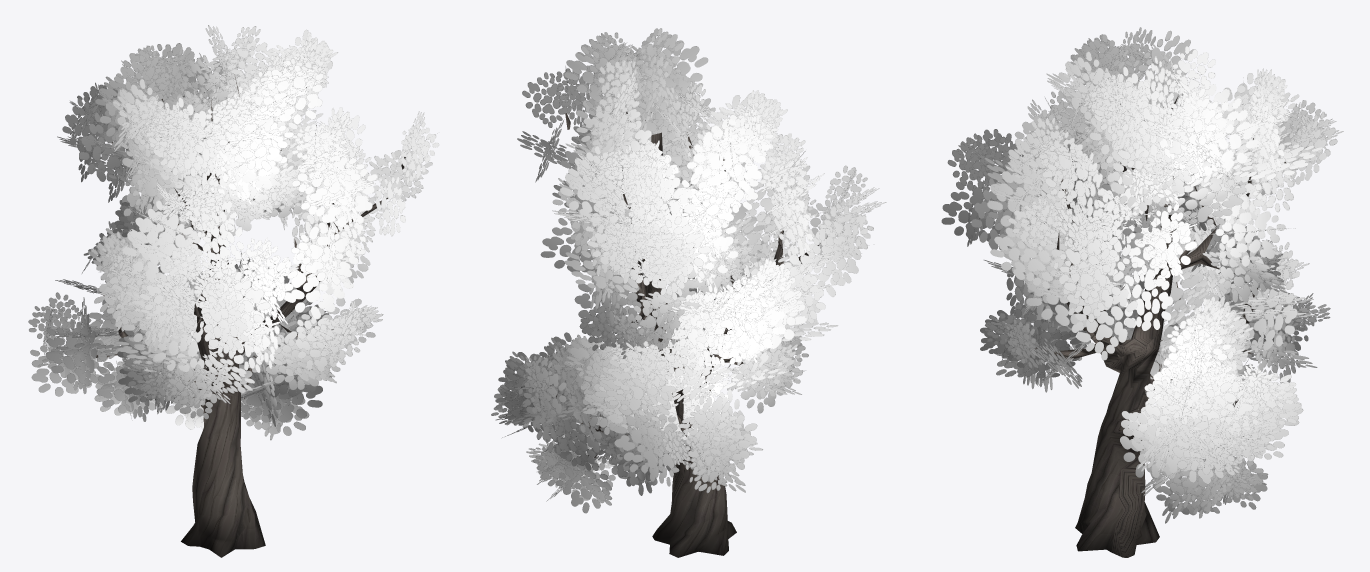
The model's file is TwistedTree_3.gltf.
The picture shows the model from 3 angles, left to right: view 1: azimuth 30°, elevation 25°; view 2: azimuth 150°, elevation 25°; view 3: azimuth 270°, elevation 25°; orthographic projection. The views are drawn at different scales.
Visible parts, largest first — view 1: TwistedTree_3; view 2: TwistedTree_3; view 3: TwistedTree_3.
Boxes of the visible parts, box(x1,y1,x2,y2) form: TwistedTree_3: box(28, 25, 439, 557); TwistedTree_3: box(491, 28, 886, 557); TwistedTree_3: box(941, 27, 1343, 557).
Size of the model in its own units: 12.03 by 16.55 by 12.28.
Materials: 2 (2 with a texture image).
